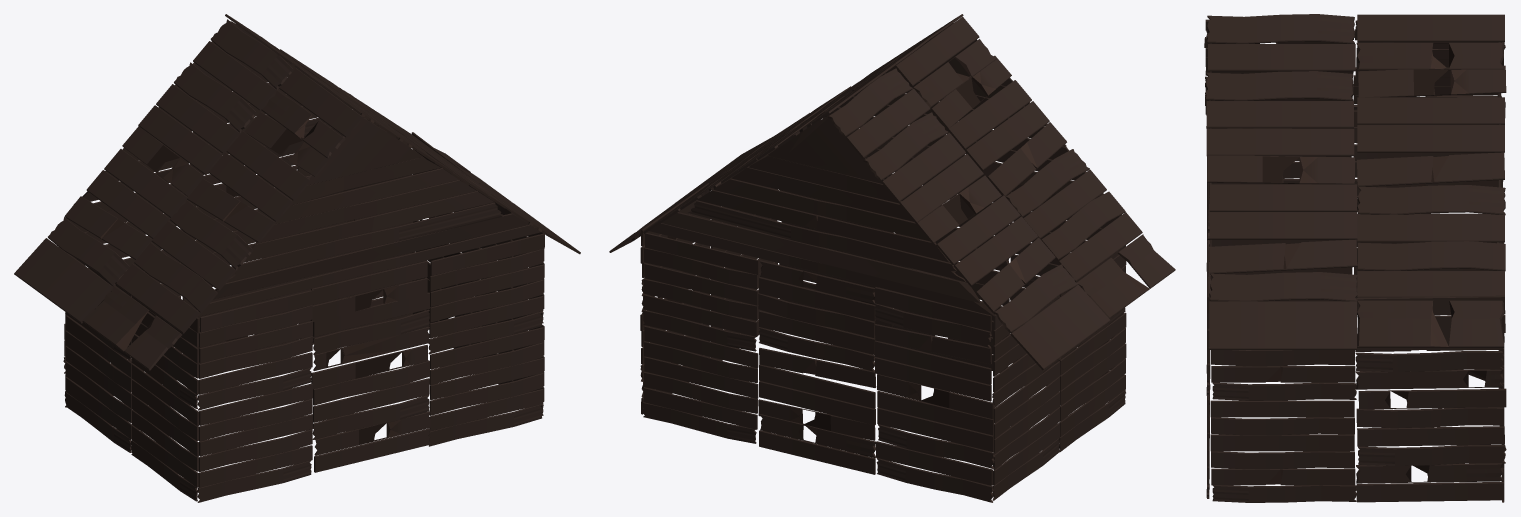
The model's file is Casa2.fbx.
3 renders of one model, left to right at view 1: azimuth 30°, elevation 25°; view 2: azimuth 150°, elevation 25°; view 3: azimuth 270°, elevation 25°, orthographic. The views are drawn at different scales.
Visible parts, largest first — view 1: Cube.021; view 2: Cube.021; view 3: Cube.021.
Part boxes in pixels (<box>): Cube.021: <box>14,14,580,502</box>; Cube.021: <box>609,14,1175,502</box>; Cube.021: <box>1204,14,1506,502</box>.
Bounding box in the file's own units: 1107 × 861 × 604.
